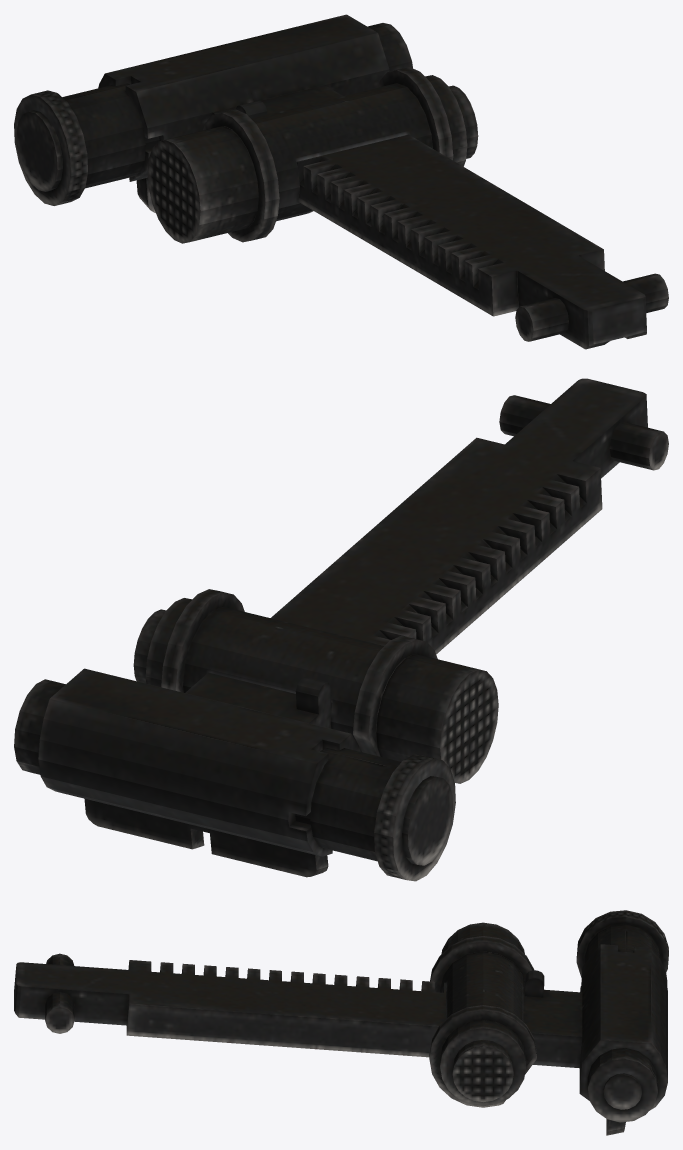
The picture shows the model from 3 angles, top to bottom: view 1: azimuth 30°, elevation 25°; view 2: azimuth 150°, elevation 25°; view 3: azimuth 270°, elevation 25°; orthographic projection. The views are drawn at different scales.
Parts seen in each view (by area): view 1: TW_6492fb8253acae0af00a29b6_PZ_Import; view 2: TW_6492fb8253acae0af00a29b6_PZ_Import; view 3: TW_6492fb8253acae0af00a29b6_PZ_Import.
Boxes of the visible parts, bbox=[...] form: TW_6492fb8253acae0af00a29b6_PZ_Import: bbox=[14, 14, 668, 349]; TW_6492fb8253acae0af00a29b6_PZ_Import: bbox=[14, 378, 668, 881]; TW_6492fb8253acae0af00a29b6_PZ_Import: bbox=[14, 910, 668, 1135].
Bounding box in the file's own units: 0.0223 × 0.0434 × 0.00906.
1 material, 1 textured.
